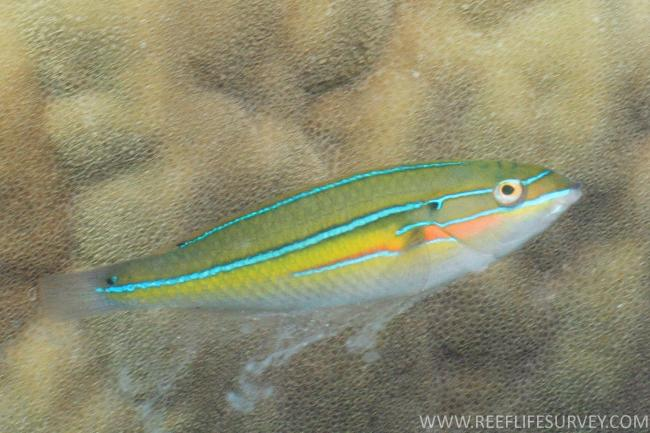fish: (36, 159, 584, 331)
